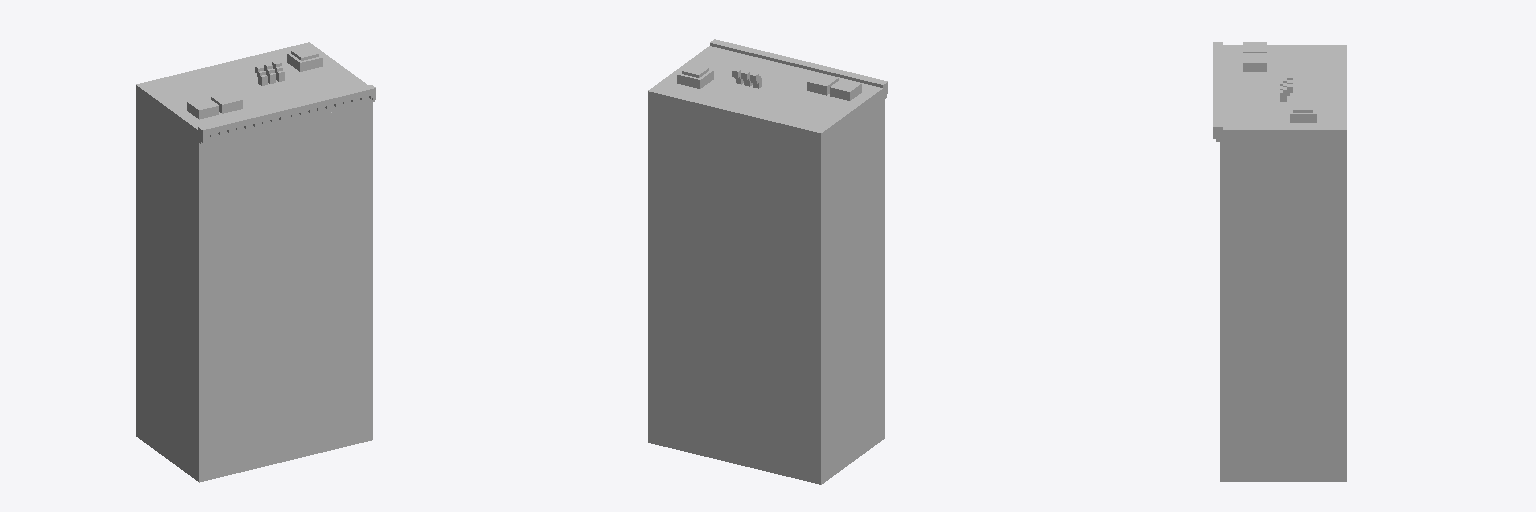
File: Building4.obj
3 views of the same model, side by side, from view 1: azimuth 30°, elevation 25°; view 2: azimuth 150°, elevation 25°; view 3: azimuth 270°, elevation 25° (orthographic).
Visible parts, largest first — view 1: object 1; view 2: object 1; view 3: object 1.
Boxes of the visible parts, x1,y1,x2,y2 form: object 1: [136, 42, 375, 482]; object 1: [648, 39, 887, 484]; object 1: [1213, 42, 1346, 481].
Bounding box in the file's own units: 6 × 12.1 × 4.